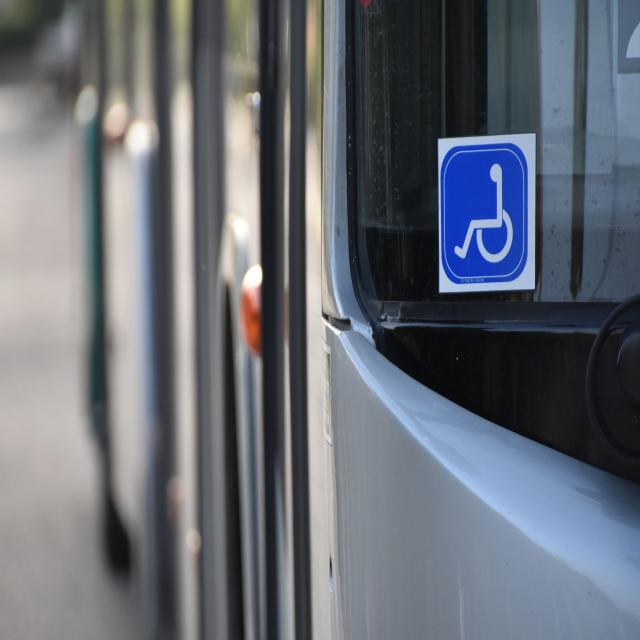symbol_of_access: (447, 153, 520, 280)
